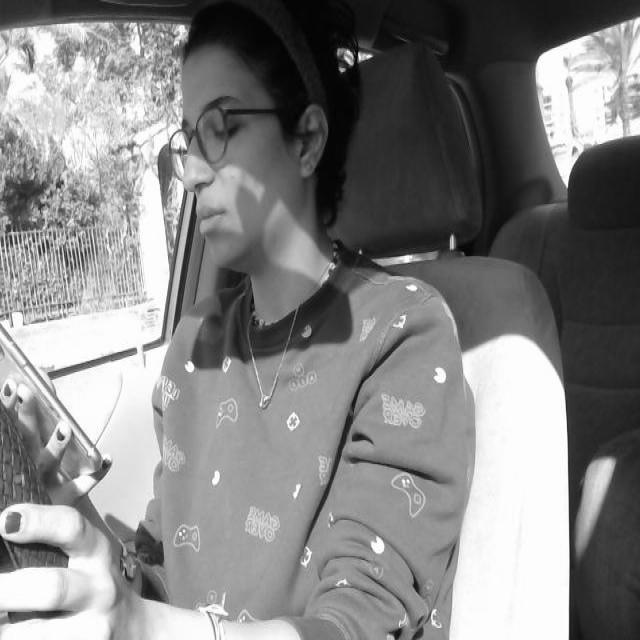mobile use: (0, 312, 108, 494)
